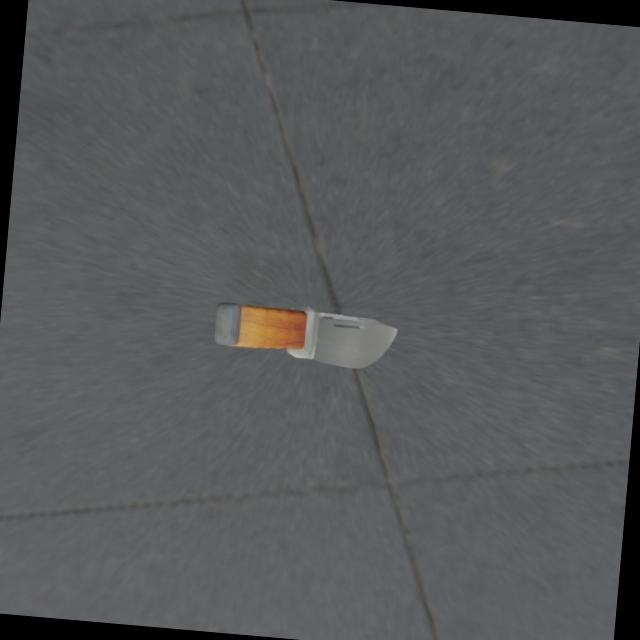knife: (237, 300, 314, 352)
